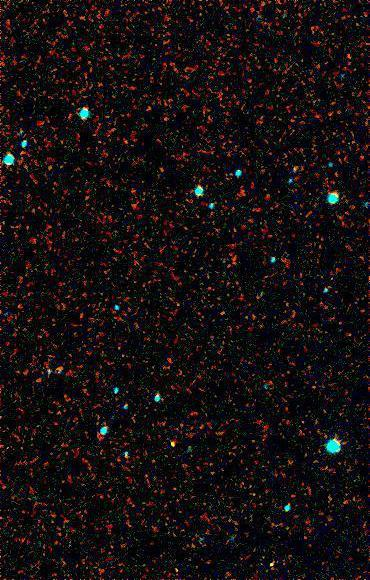star: (258, 552, 288, 580)
